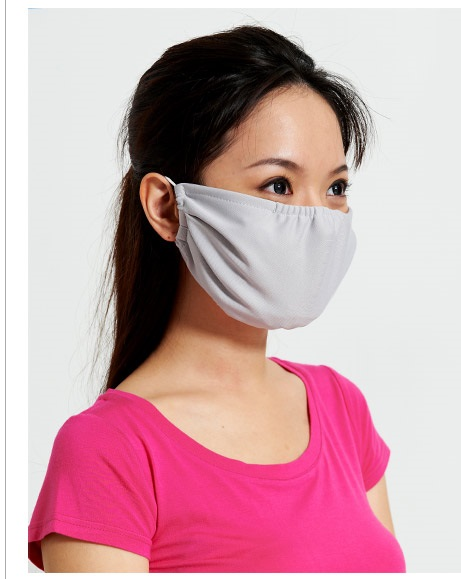face_mask: (177, 81, 355, 330)
